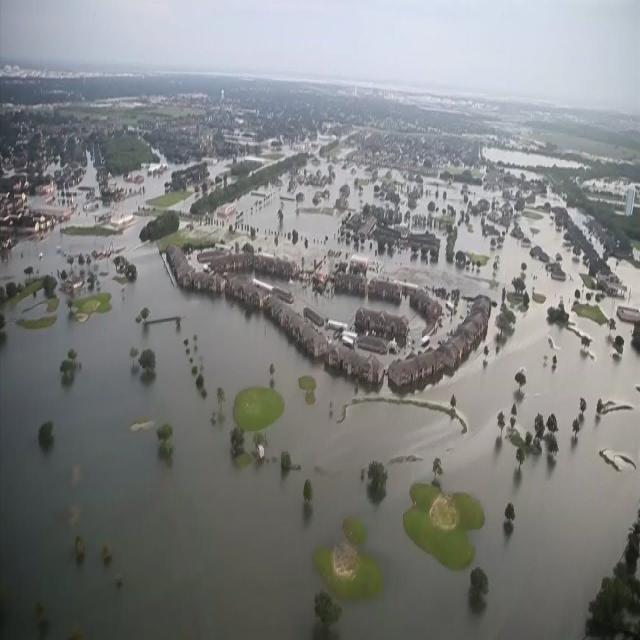flooded_areas: (0, 165, 640, 639)
